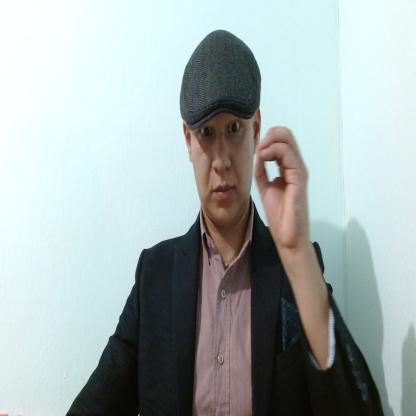O: (253, 122, 312, 247)
